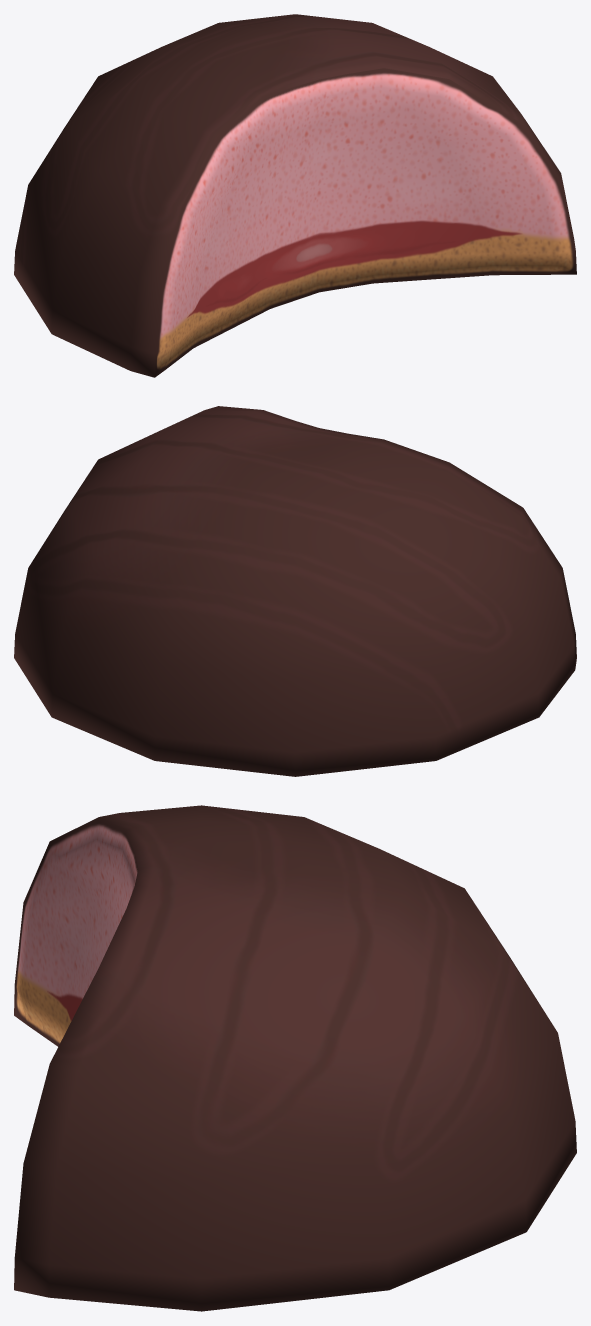
Rendered from souffle_bite_0.fbx.
3 views of the same model, one above another, from view 1: azimuth 30°, elevation 25°; view 2: azimuth 150°, elevation 25°; view 3: azimuth 270°, elevation 25° (orthographic). The views are drawn at different scales.
Parts seen in each view (by area): view 1: souffle_05; view 2: souffle_05; view 3: souffle_05.
Part boxes in pixels (x1,y1,x2,y2): souffle_05: (14,14,576,377); souffle_05: (14,406,576,776); souffle_05: (14,805,576,1311).
Bounding box in the file's own units: 6 × 2.55 × 4.5.
